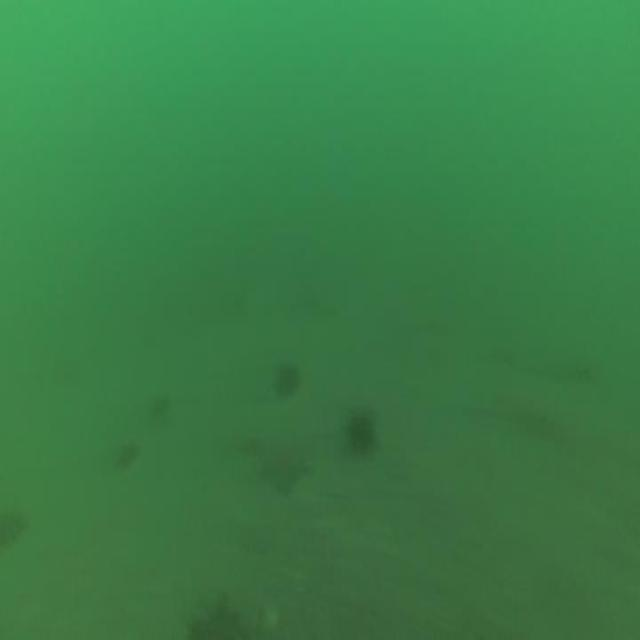echinus: (183, 592, 247, 640), (343, 404, 379, 462), (269, 359, 303, 403), (0, 504, 24, 556), (114, 438, 143, 476), (148, 387, 174, 424)
starfish: (253, 433, 313, 499)
